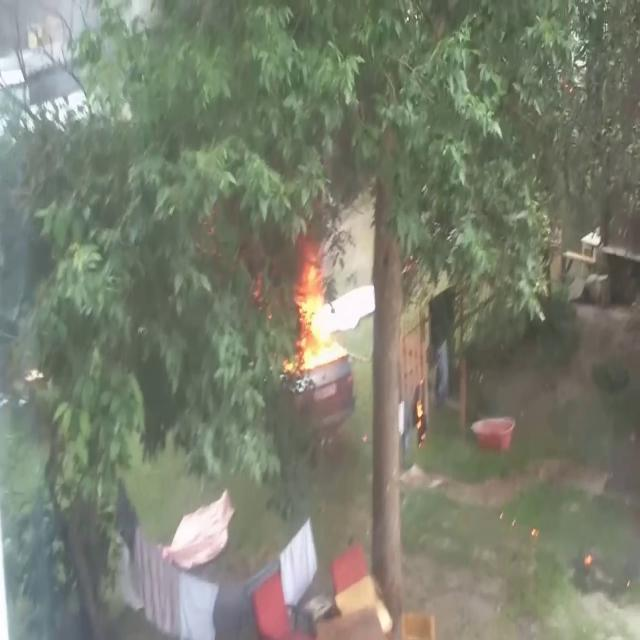Fire: (285, 256, 348, 376)
